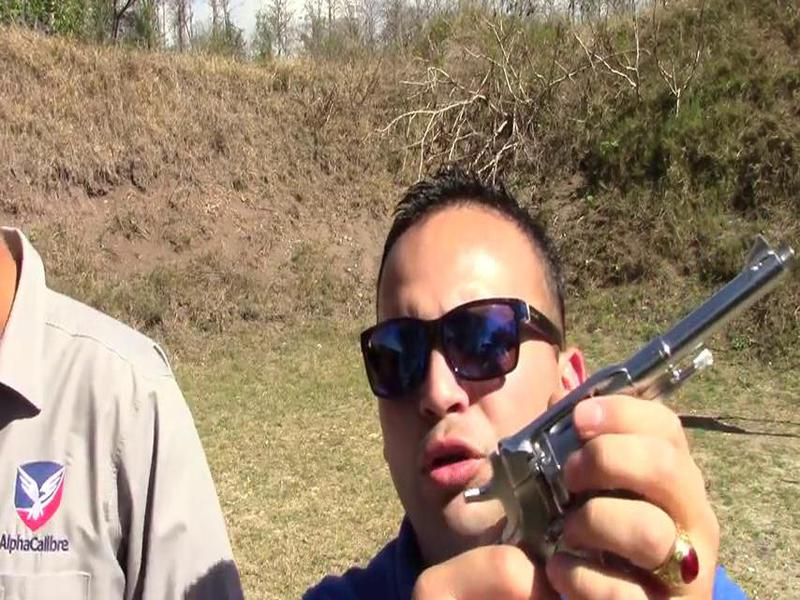Revolver: (465, 224, 800, 586)
